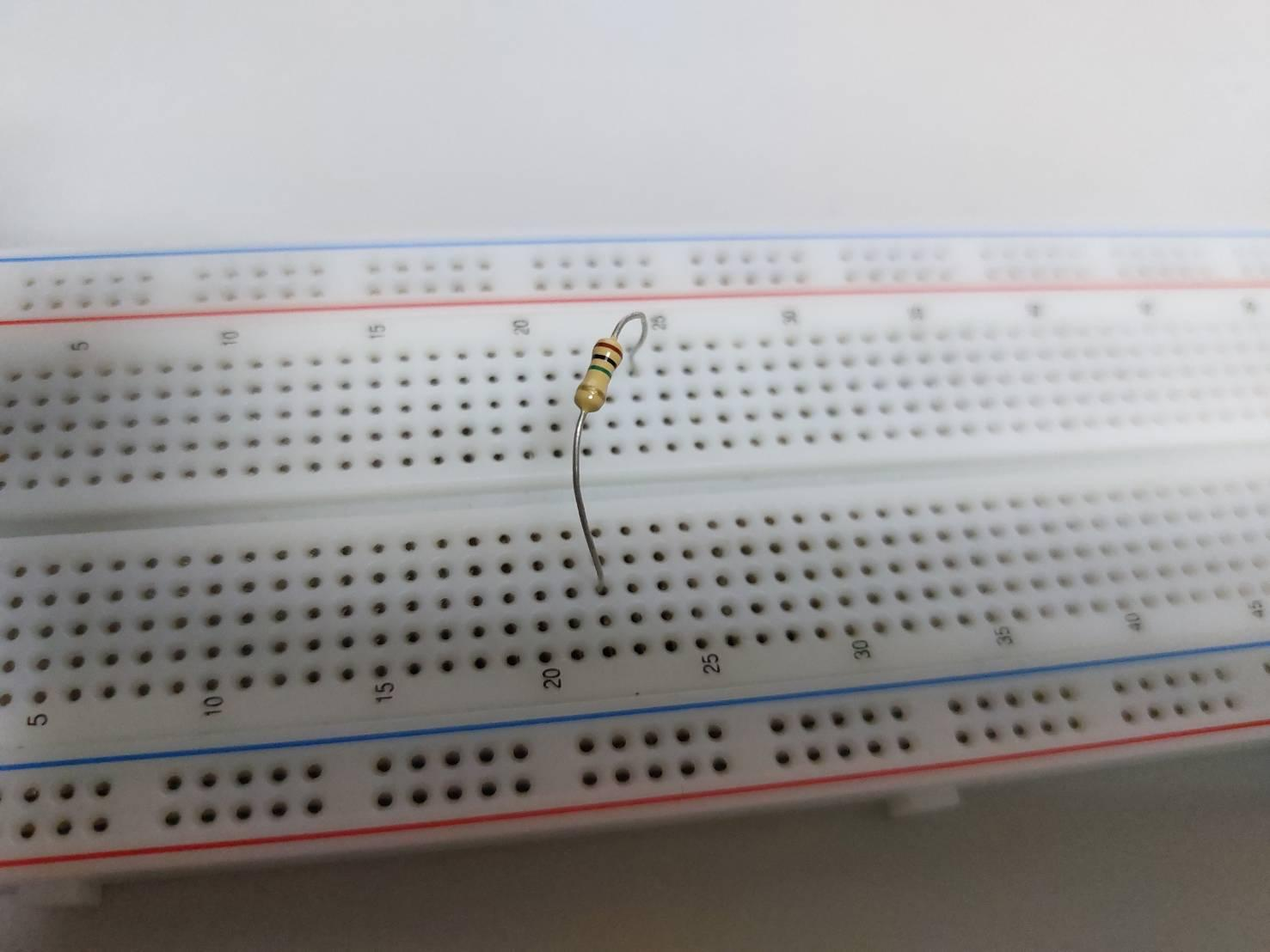resistor: (575, 336, 623, 414)
